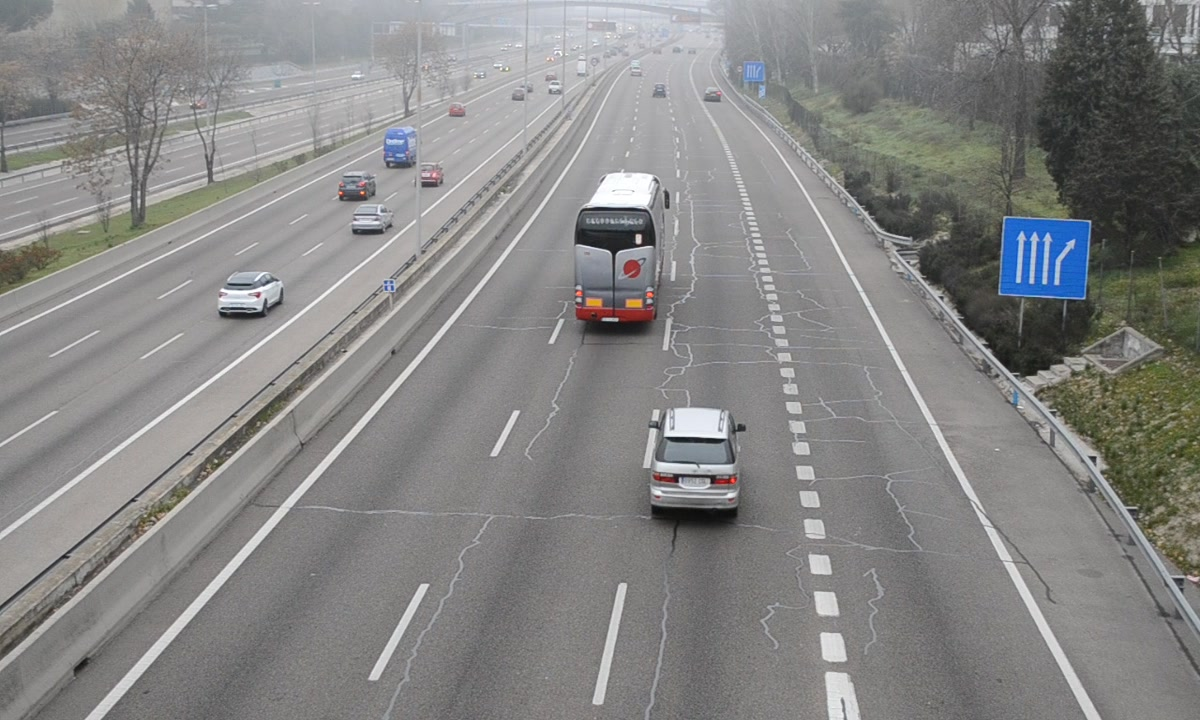bus: (573, 173, 665, 327)
car: (650, 409, 741, 512)
